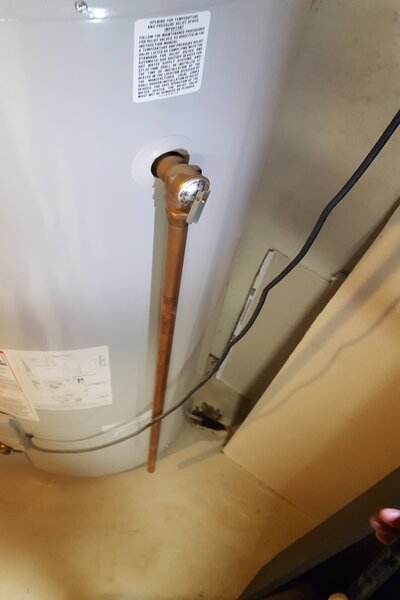valve: (152, 151, 210, 246)
